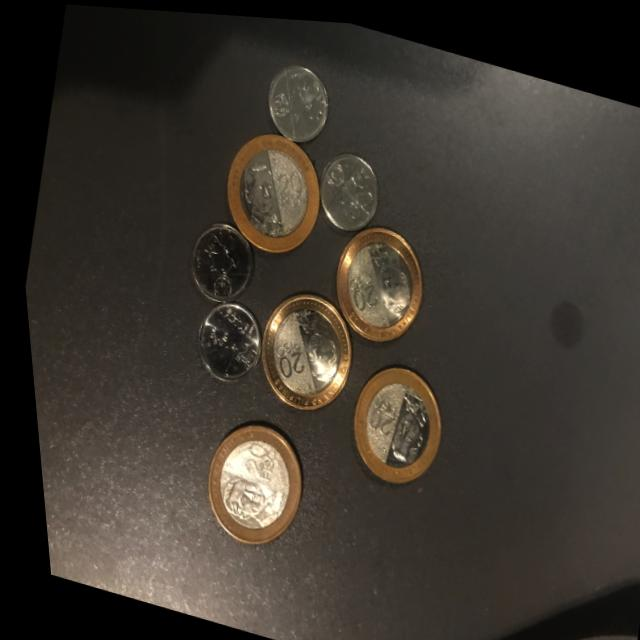20_New_Front: (335, 260, 384, 310), (263, 330, 308, 382), (357, 385, 396, 432)
25Cent_New_Front: (224, 334, 254, 369)
